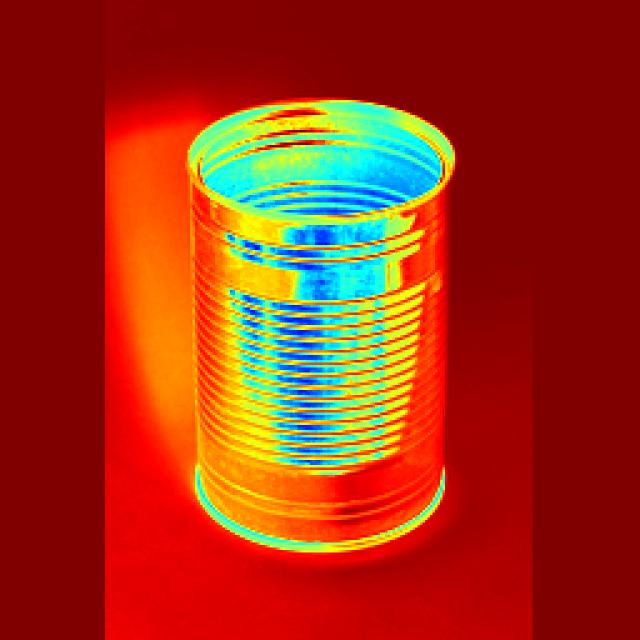Aluminium Food Cans: (170, 94, 466, 564)
